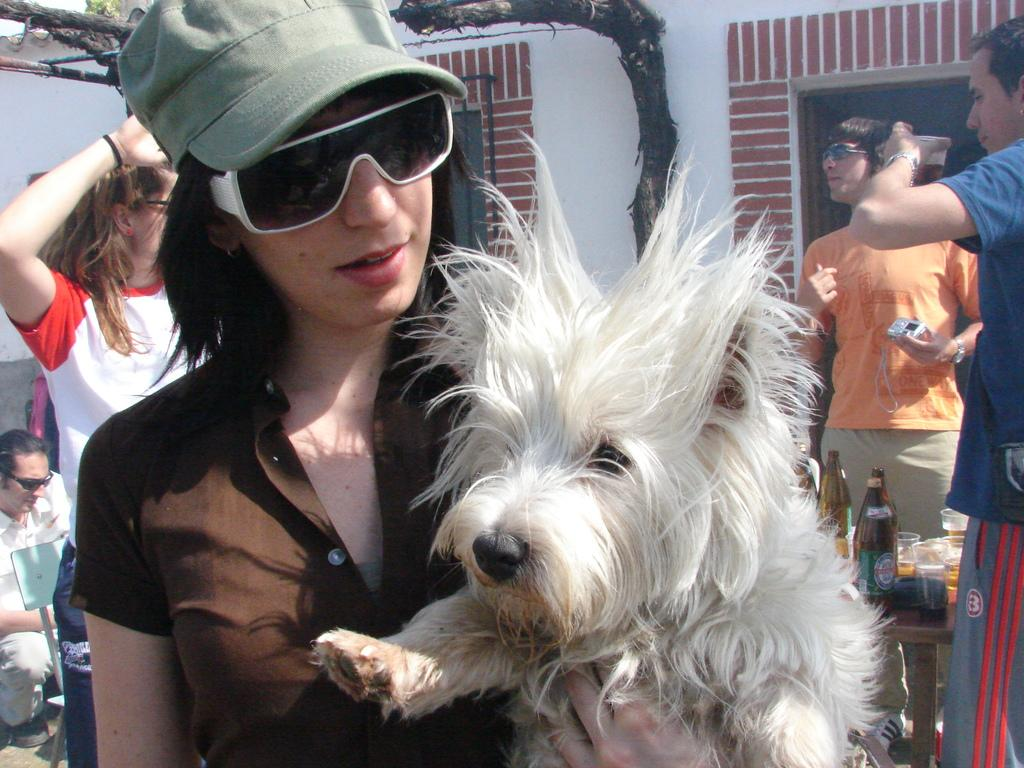Hat: (117, 0, 469, 170)
